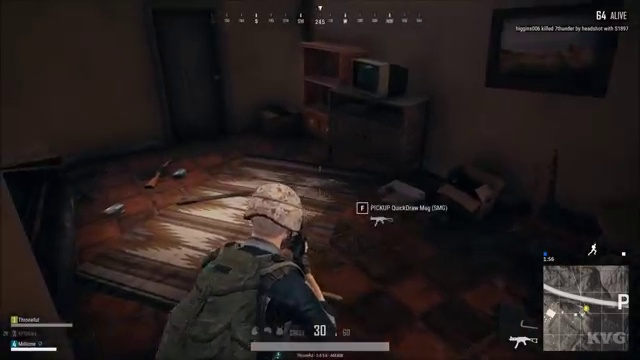Player: (156, 180, 343, 321)
